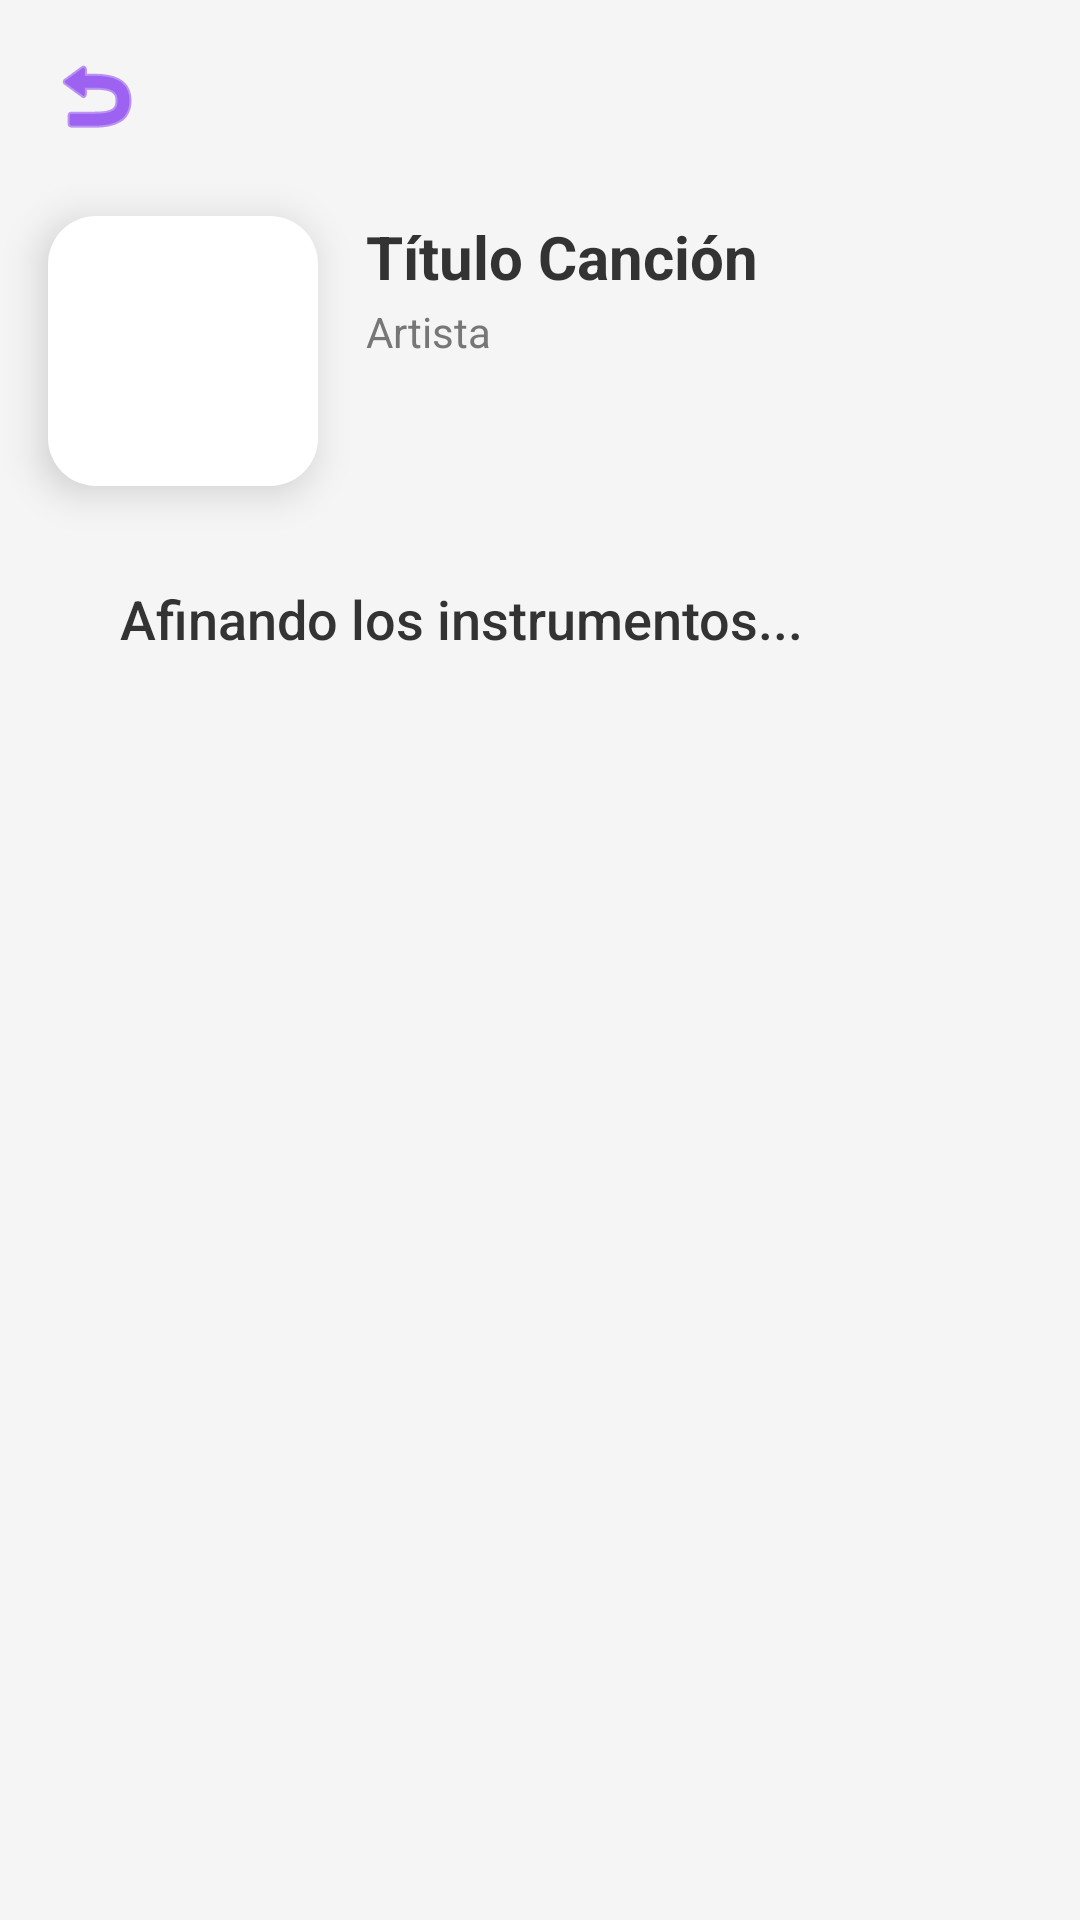

Icons on this 1080w x 1920h Android screen, each with the point to tap as (x,y):
revert: (97,96)
